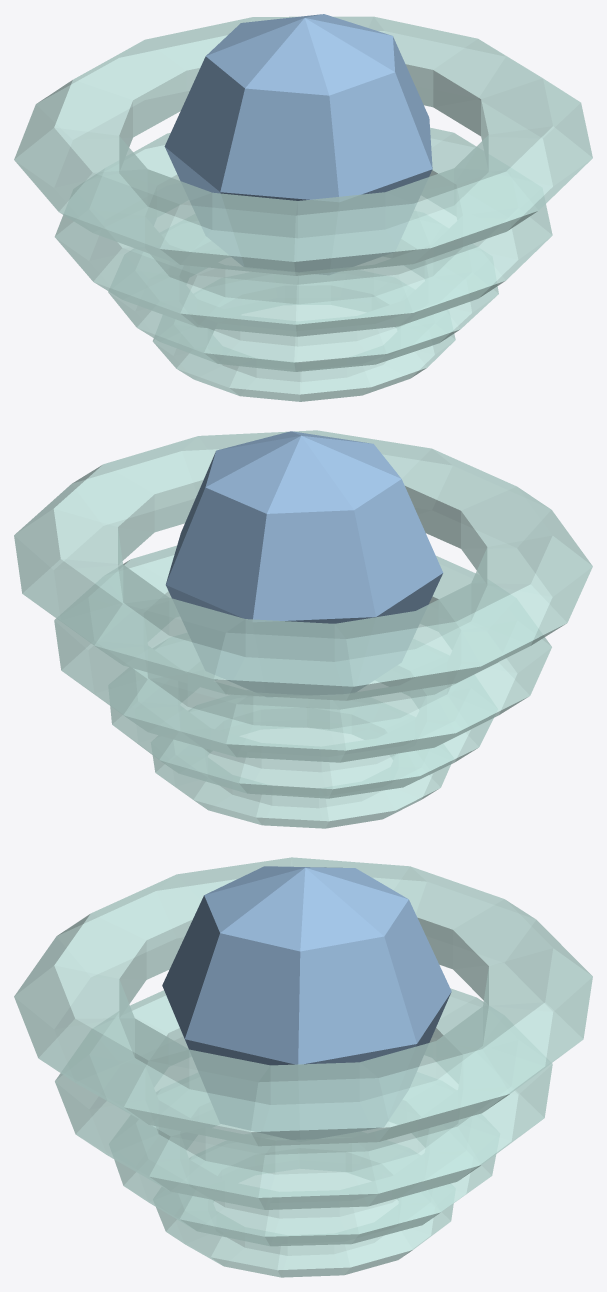
The model's file is Pet.fbx.
3 views of the same model, one above another, from view 1: azimuth 30°, elevation 25°; view 2: azimuth 150°, elevation 25°; view 3: azimuth 270°, elevation 25° (orthographic). The views are drawn at different scales.
Visible parts, largest first — view 1: Torus, Sphere, Torus.001, Torus.002, Torus.003; view 2: Torus, Sphere, Torus.001, Torus.002, Torus.003; view 3: Torus, Sphere, Torus.001, Torus.002, Torus.003.
Boxes of the visible parts, box(x1,y1,x2,y2) form: Torus: box(14, 16, 592, 275); Sphere: box(164, 14, 432, 274); Torus.001: box(54, 127, 552, 336); Torus.002: box(108, 286, 498, 371); Torus.003: box(152, 334, 455, 401); Torus: box(14, 430, 592, 700); Sphere: box(165, 431, 443, 694); Torus.001: box(54, 545, 551, 762); Torus.002: box(110, 706, 493, 798); Torus.003: box(152, 755, 450, 828); Torus: box(14, 857, 592, 1146); Sphere: box(162, 866, 451, 1139); Torus.001: box(55, 988, 552, 1209); Torus.002: box(114, 1154, 496, 1246); Torus.003: box(156, 1203, 453, 1277).
Bounding box in the file's own units: 415 × 261 × 389.
